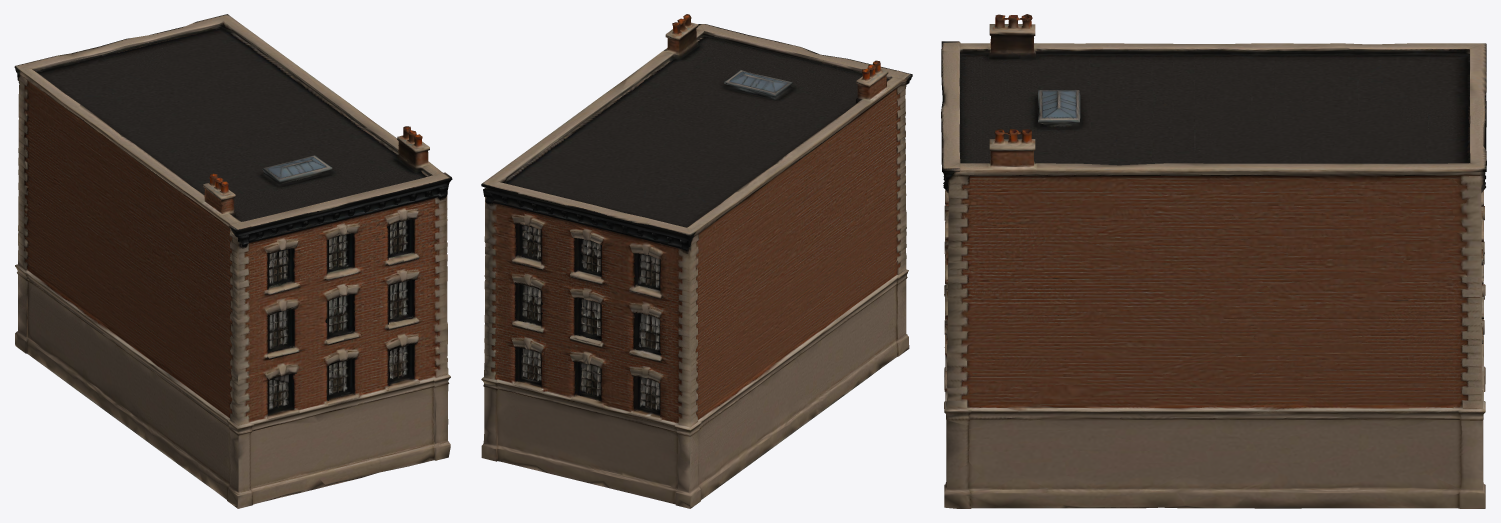
File: tripo_convert_c4f7afa3-bb8e-499d-9766-3880c50e7e58.fbx
3 renders of one model, left to right at view 1: azimuth 30°, elevation 25°; view 2: azimuth 150°, elevation 25°; view 3: azimuth 270°, elevation 25°, orthographic. The views are drawn at different scales.
Visible parts, largest first — view 1: tripo_node_c4f7afa3; view 2: tripo_node_c4f7afa3; view 3: tripo_node_c4f7afa3.
Boxes of the visible parts, x1,y1,x2,y2 form: tripo_node_c4f7afa3: (14, 14, 452, 508); tripo_node_c4f7afa3: (481, 14, 912, 508); tripo_node_c4f7afa3: (941, 14, 1486, 508).
Size of the model in its own units: 0.5475 by 0.7395 by 0.9814.
1 material, 1 textured.
